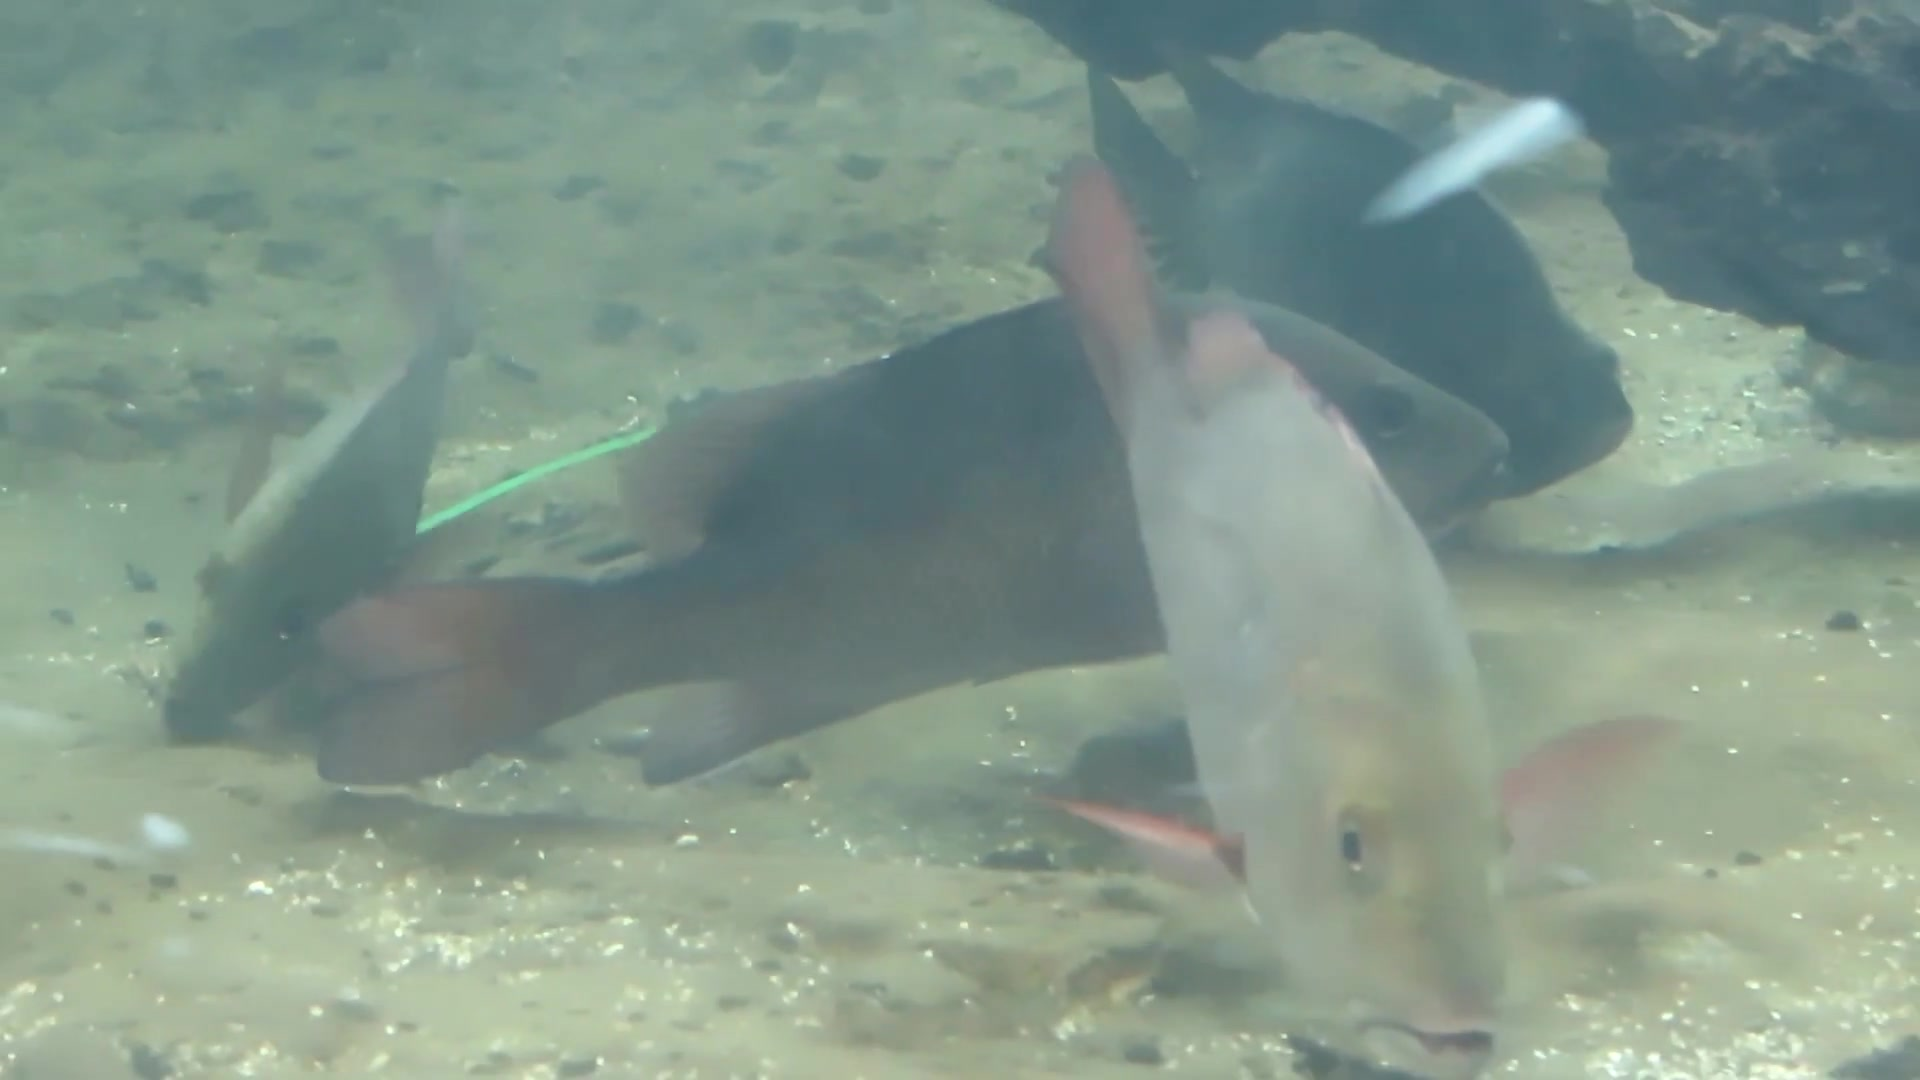Lutjanus argentimaculatus: (1069, 215, 1510, 1080), (142, 287, 521, 771)
